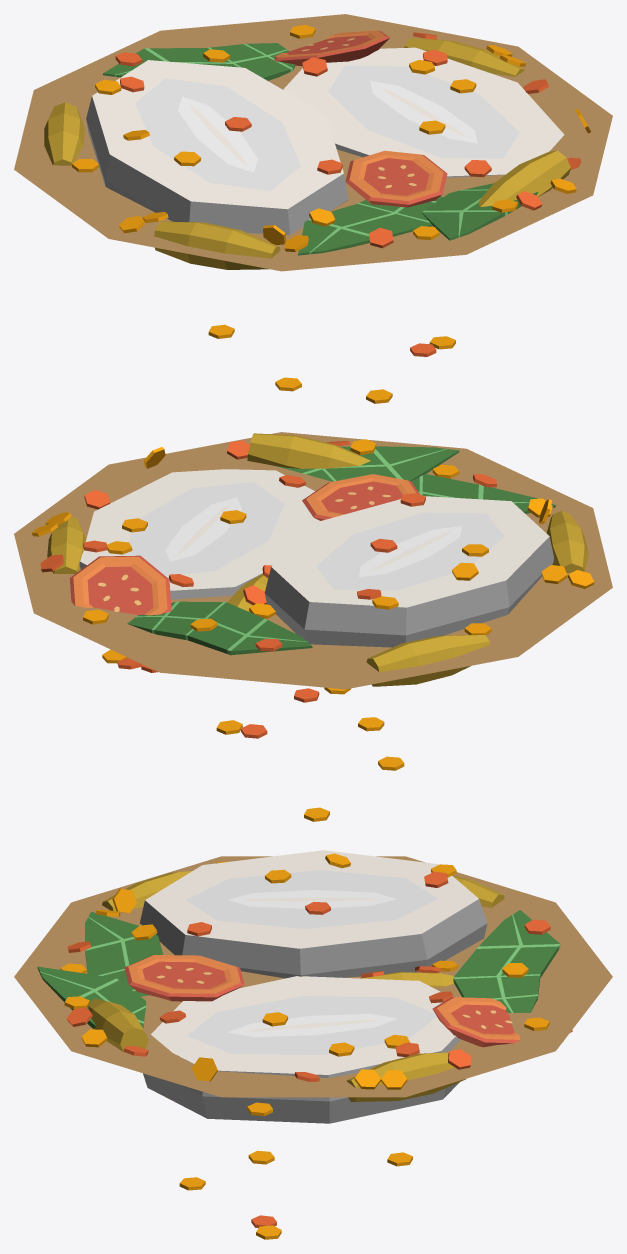
The model's file is Sinigang sa kamias.fbx.
3 views of the same model, one above another, from view 1: azimuth 30°, elevation 25°; view 2: azimuth 150°, elevation 25°; view 3: azimuth 270°, elevation 25° (orthographic). The views are drawn at different scales.
Parts seen in each view (by area): view 1: Sinigang sa Kamias; view 2: Sinigang sa Kamias; view 3: Sinigang sa Kamias.
Part boxes in pixels (x1,y1,x2,y2): Sinigang sa Kamias: (14,14,612,403); Sinigang sa Kamias: (14,432,612,821); Sinigang sa Kamias: (14,850,612,1239).
Size of the model in its own units: 78.87 by 38.33 by 82.93.
